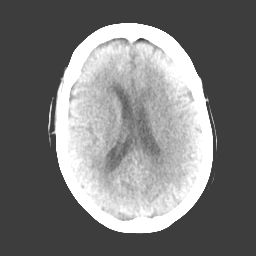ischemic: (73, 123, 89, 142)
